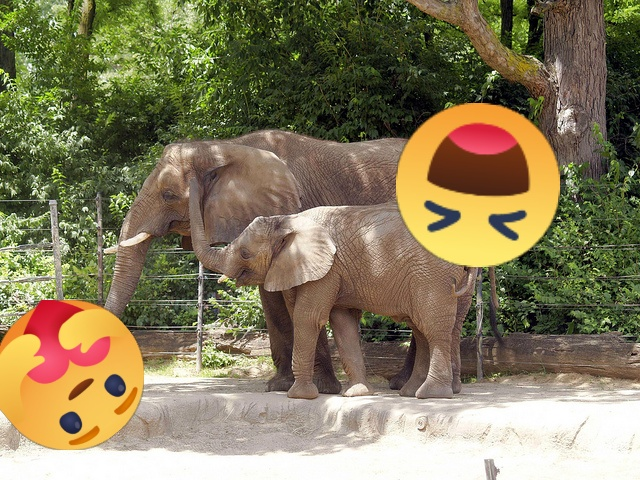care: (0, 300, 144, 450)
haha: (396, 103, 560, 267)
